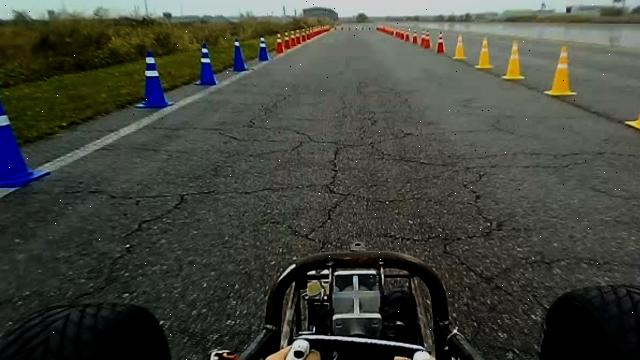blue cone: (0, 96, 50, 188), (134, 50, 171, 109), (194, 42, 217, 86), (231, 38, 248, 72), (258, 36, 270, 62)
red cone: (272, 27, 285, 58), (435, 28, 447, 58)
yellow cone: (543, 45, 576, 96), (624, 57, 640, 131), (501, 40, 525, 80), (474, 35, 494, 69), (452, 34, 466, 60)
